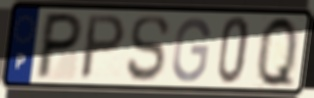0: (217, 15, 254, 88)
G: (170, 15, 212, 84)
P: (33, 10, 86, 82), (77, 12, 129, 82)
Q: (256, 13, 299, 92)
S: (125, 14, 171, 84)
